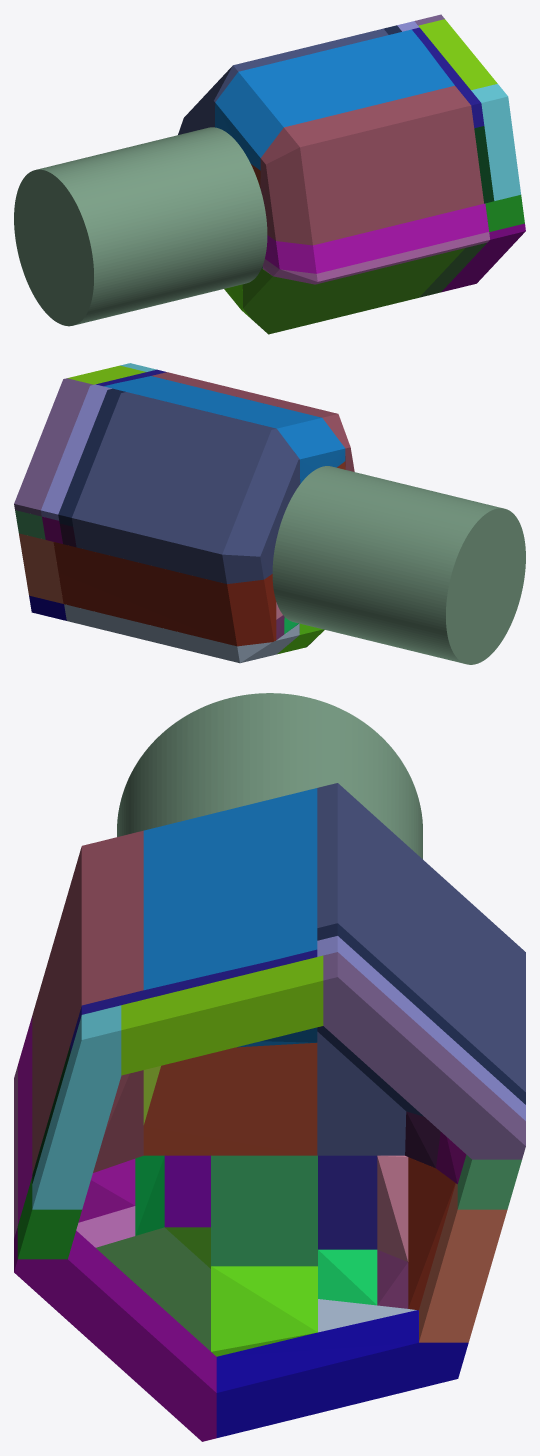
File: 6_canonical.obj
3 views of the same model, one above another, from view 1: azimuth 30°, elevation 25°; view 2: azimuth 150°, elevation 25°; view 3: azimuth 270°, elevation 25° (orthographic). The views are drawn at different scales.
Visible parts, largest first — view 1: geometry_0, geometry_13, geometry_29, geometry_30, geometry_22, geometry_2, geometry_16, geometry_7, geometry_4, geometry_11, geometry_20, geometry_8 (+2 smaller); view 2: geometry_0, geometry_16, geometry_15, geometry_29, geometry_1, geometry_6, geometry_12, geometry_9, geometry_21, geometry_13, geometry_4, geometry_3 (+3 smaller); view 3: geometry_16, geometry_29, geometry_0, geometry_13, geometry_5, geometry_31, geometry_11, geometry_1, geometry_4, geometry_10, geometry_2, geometry_17 (+20 smaller).
Part boxes in pixels (box(x1,y1,x2,y2)): geometry_0: box(14, 127, 267, 326); geometry_13: box(260, 85, 483, 245); geometry_29: box(215, 29, 454, 170); geometry_30: box(242, 248, 464, 334); geometry_22: box(265, 203, 488, 273); geometry_2: box(471, 84, 520, 200); geometry_16: box(178, 28, 388, 134); geometry_7: box(262, 232, 489, 284); geometry_4: box(418, 19, 497, 90); geometry_11: box(441, 223, 525, 292); geometry_20: box(412, 27, 484, 128); geometry_8: box(485, 195, 524, 231); geometry_0: box(272, 466, 525, 664); geometry_16: box(72, 392, 300, 583); geometry_15: box(53, 542, 276, 646); geometry_29: box(104, 376, 345, 483); geometry_1: box(14, 378, 93, 516); geometry_6: box(64, 604, 299, 663); geometry_12: box(41, 384, 111, 520); geometry_9: box(19, 533, 63, 603); geometry_21: box(58, 388, 125, 526); geometry_13: box(152, 372, 354, 471); geometry_4: box(67, 365, 146, 384); geometry_3: box(15, 510, 45, 539); geometry_16: box(317, 783, 525, 1155); geometry_29: box(143, 788, 317, 1047); geometry_0: box(117, 693, 422, 858); geometry_13: box(32, 830, 143, 1174); geometry_5: box(216, 1310, 468, 1437); geometry_31: box(143, 1042, 317, 1155); geometry_11: box(14, 1227, 216, 1441); geometry_1: box(323, 952, 525, 1159); geometry_4: box(121, 955, 323, 1075); geometry_10: box(211, 1155, 317, 1266); geometry_2: box(32, 1005, 121, 1209); geometry_17: box(211, 1266, 317, 1356).
Size of the model in its own units: 0.035 by 0.0201 by 0.0201.
